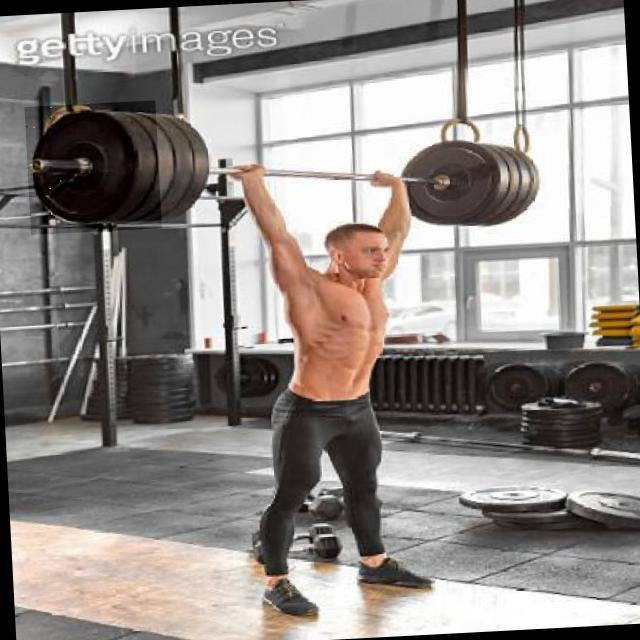barbell: (25, 101, 163, 236)
